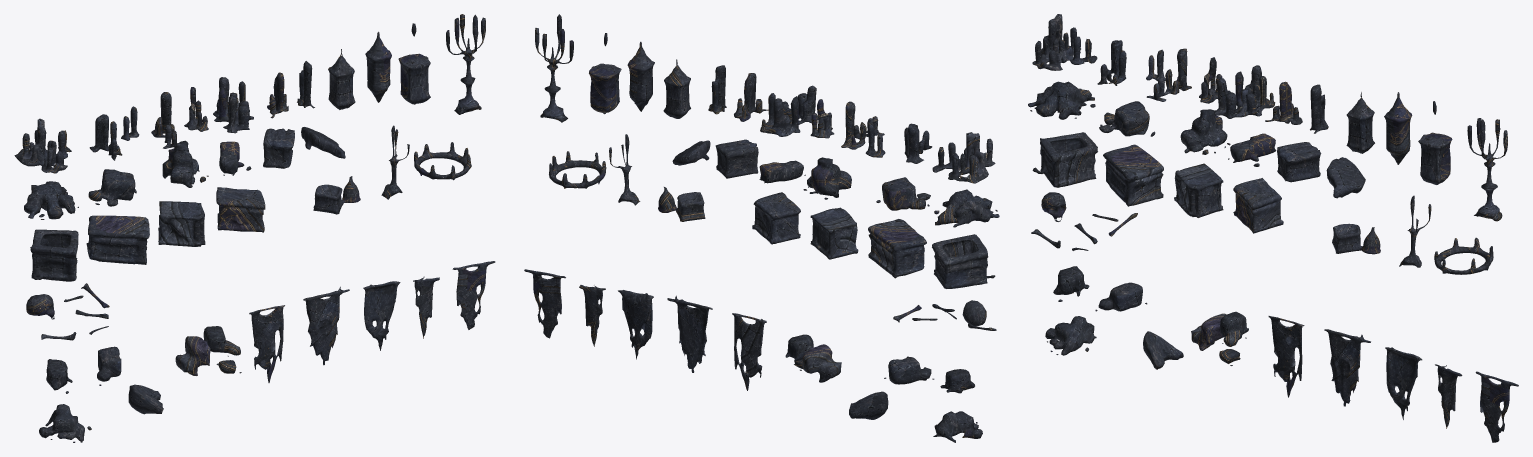
The model's file is terrain-abyss-chancel-textured-cleaned.obj.
The picture shows the model from 3 angles, left to right: view 1: azimuth 30°, elevation 25°; view 2: azimuth 150°, elevation 25°; view 3: azimuth 330°, elevation 25°; orthographic projection. The views are drawn at different scales.
Parts seen in each view (by area): view 1: TerrainAbyssChancelCleaned; view 2: TerrainAbyssChancelCleaned; view 3: TerrainAbyssChancelCleaned.
Part boxes in pixels (x1,y1,x2,y2): TerrainAbyssChancelCleaned: (14,14,495,442); TerrainAbyssChancelCleaned: (524,14,999,442); TerrainAbyssChancelCleaned: (1028,14,1518,442).
Size of the model in its own units: 1.88 by 1.24 by 0.258.
Materials: 1 (1 with a texture image).
